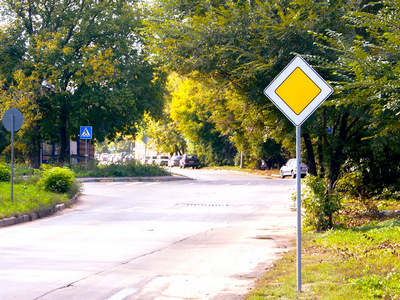crosswalk: (80, 126, 92, 139)
priority_road: (271, 61, 325, 120)
